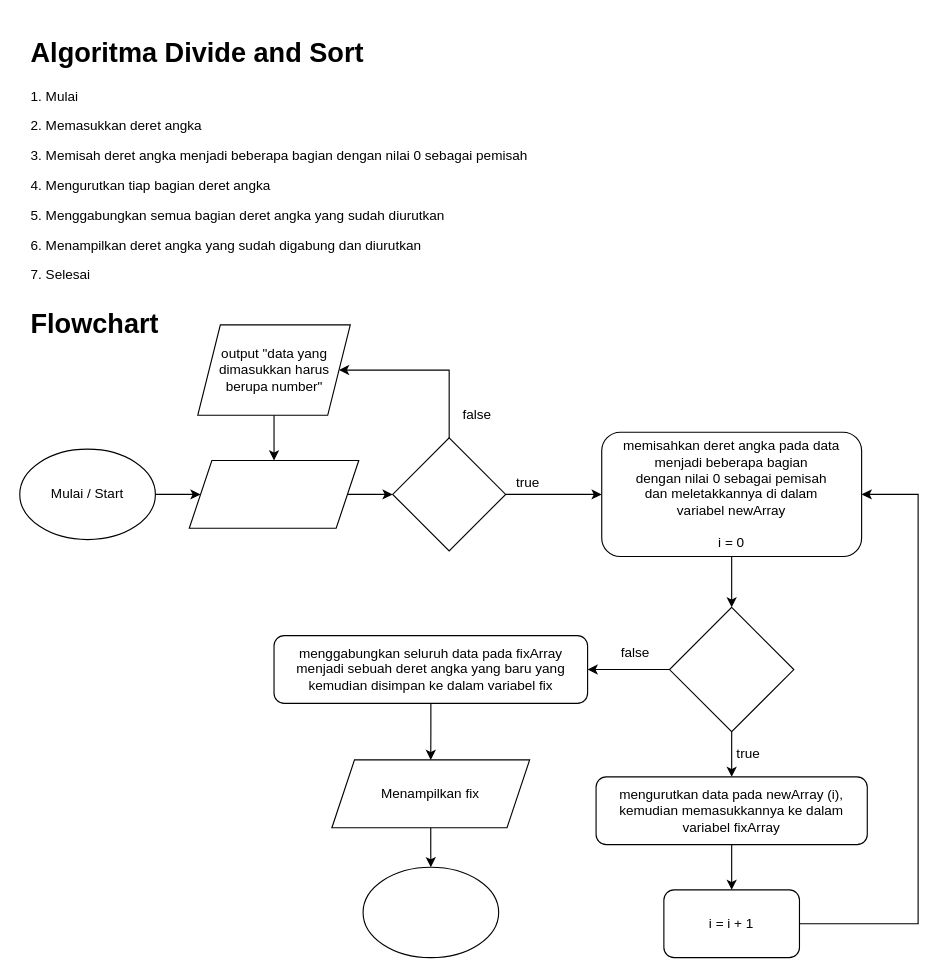
Image size: 947x977. Some labels were removed from this diagram. Here are the shapes that lost their labels. From the top down, the centre of each, then its label:
At pixel 273 493: "Input data".
At pixel 449 494: "type data == number".
At pixel 731 669: "i < jumlah data newArray".
At pixel 430 912: "Selesai / End".
